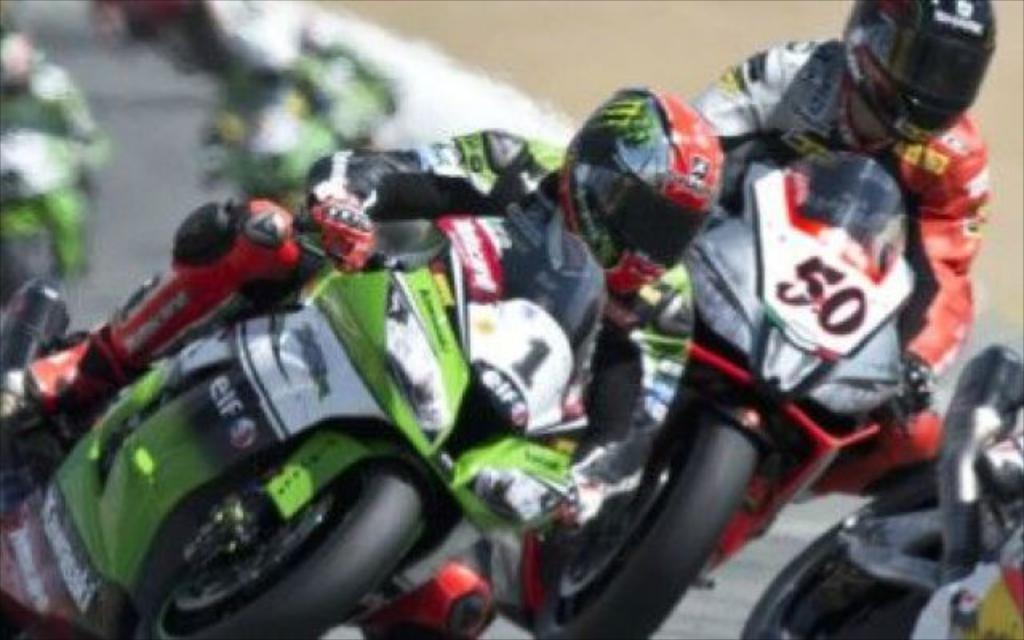helmet: (558, 86, 725, 296), (842, 0, 997, 144)
